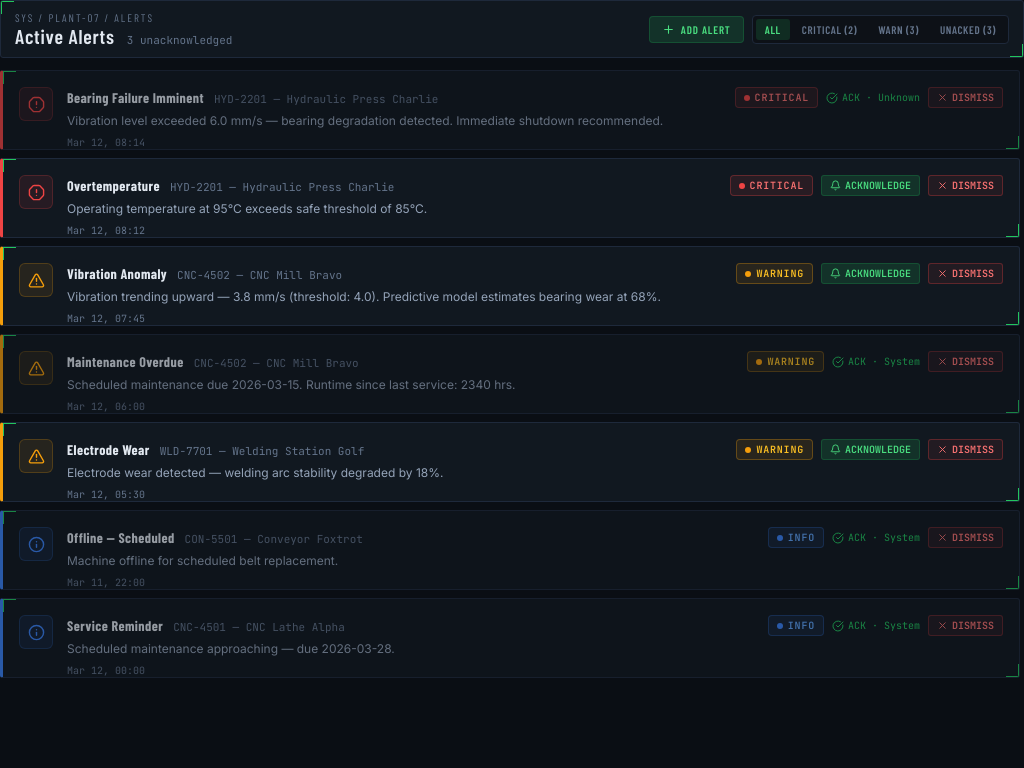
Scenario: Alerts › filters by critical severity
Click the button "Critical (2)": (830,29) [793, 18, 866, 40]
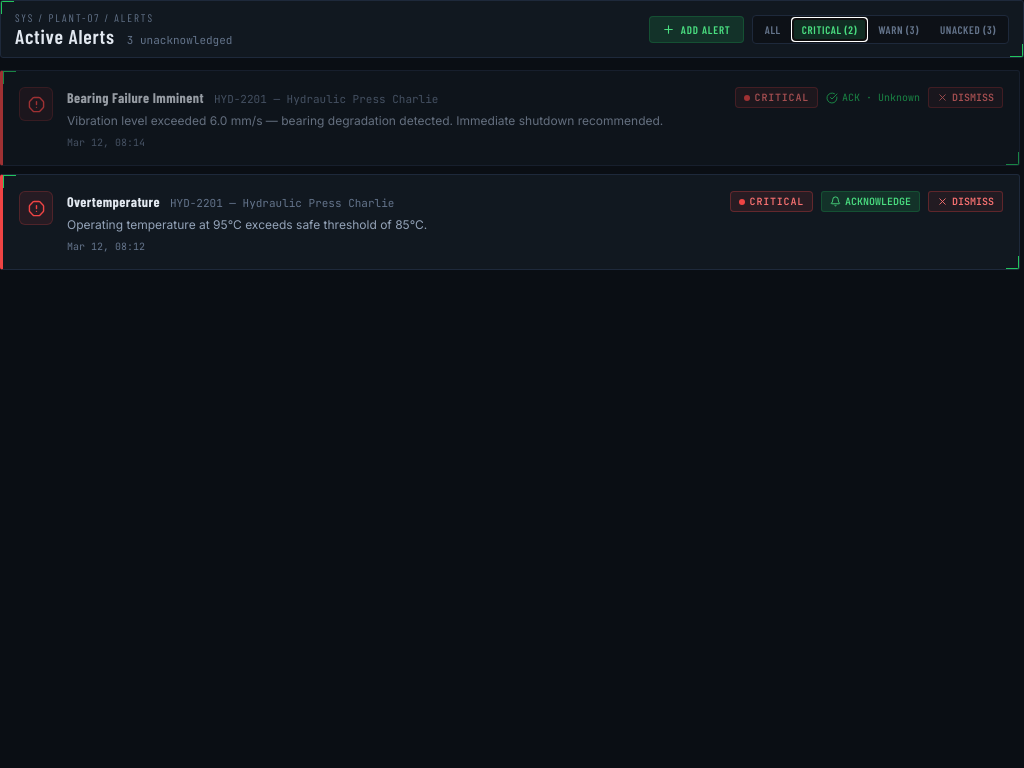
Expected: the text "Bearing Failure Imminent" is shown, [67, 89, 204, 106]
Expected: the text "Vibration Anomaly" is gone
